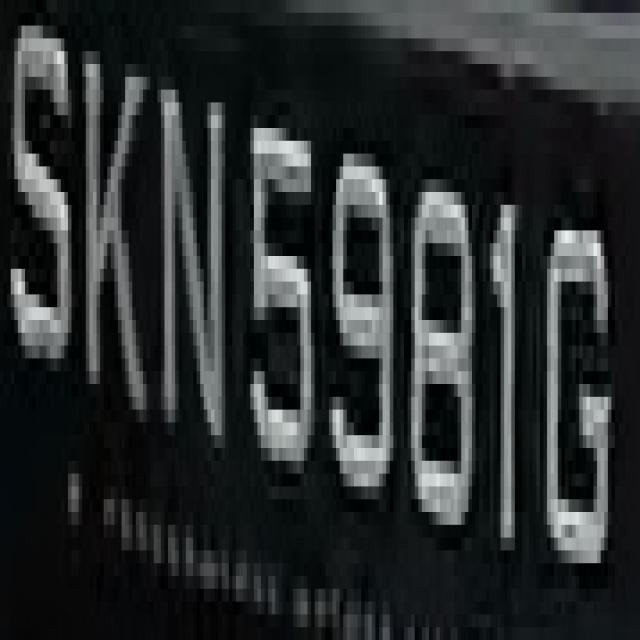1: (486, 90, 526, 588)
5: (243, 51, 325, 486)
8: (411, 128, 476, 563)
9: (318, 90, 404, 550)
G: (540, 153, 618, 614)
K: (72, 38, 154, 436)
N: (147, 26, 243, 487)
S: (0, 13, 72, 397)
